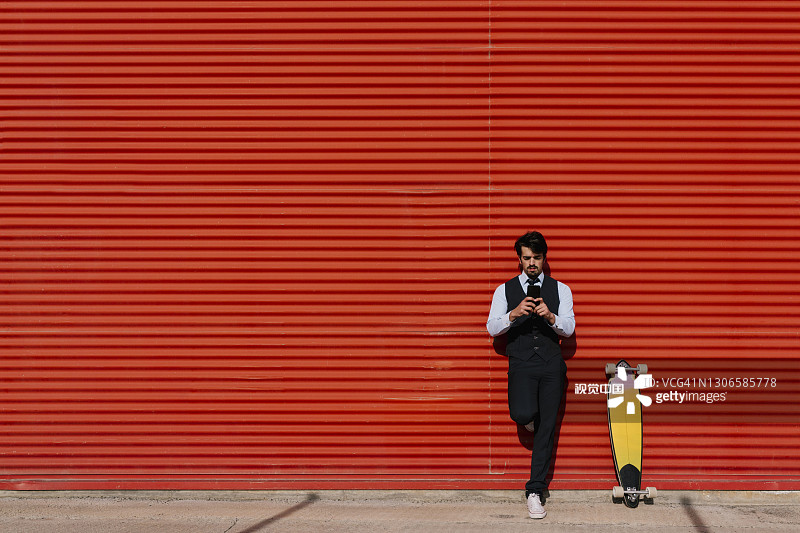reading: (505, 285, 564, 331)
